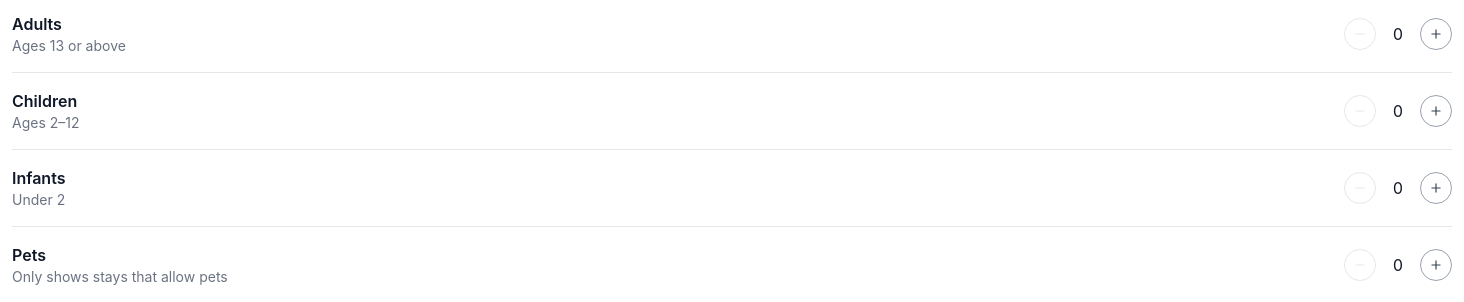
Test: GuestsPanel › steps counts within the rules
Expected: the button named "Decrease adults" is disabled, [1344,18,1376,50]
Click the button named "Increase pets".
click(1436, 265)  # box [1420,249,1452,281]
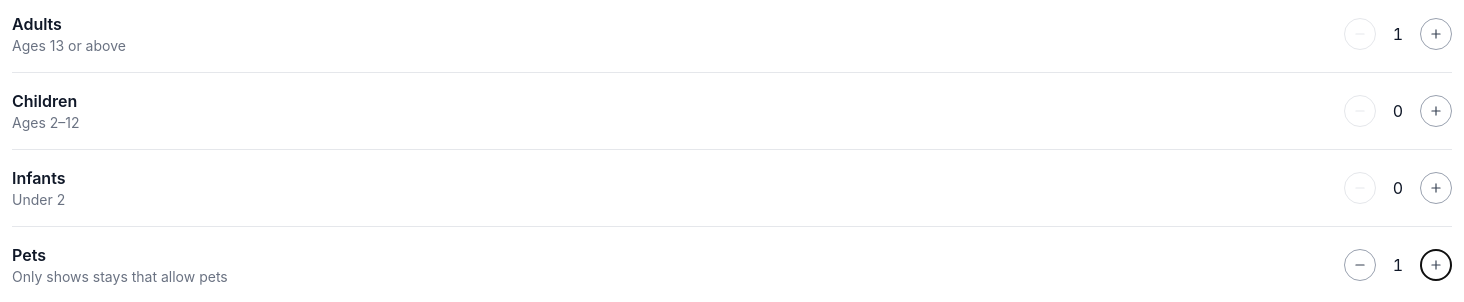
Expected: the button named "Decrease adults" is disabled, [1344,18,1376,50]
Result: the text named "1 adults" is shown at [1393,24,1403,44]
Click the button named "Decrease pets".
click(1360, 265)  # box [1344,249,1376,281]
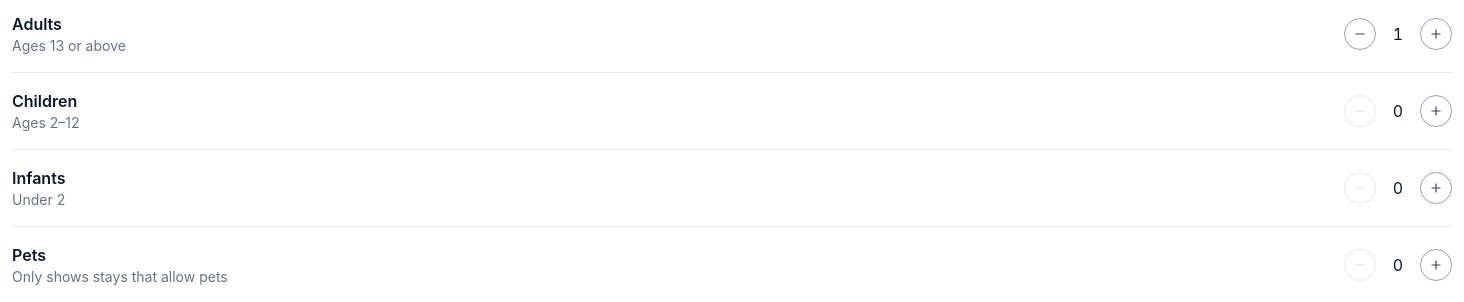
Click the button named "Decrease adults".
click(1360, 34)  # box [1344,18,1376,50]
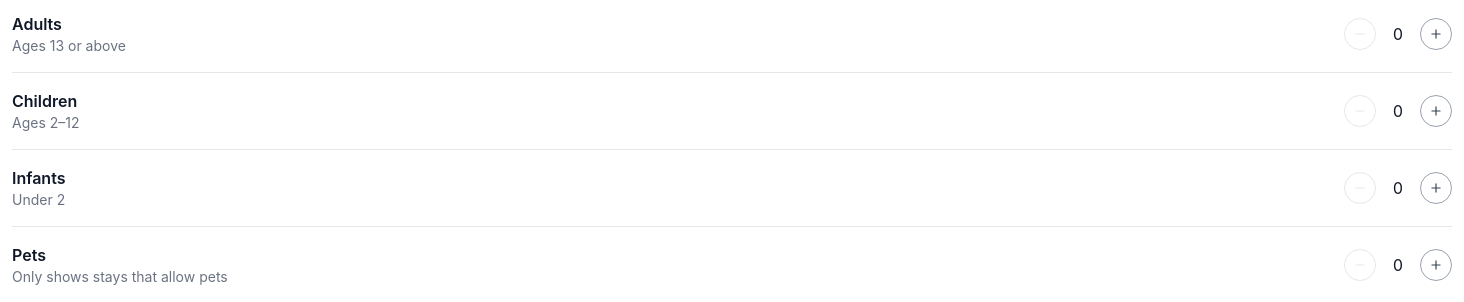
Result: the text named "0 adults" is shown at [1393,24,1403,44]
